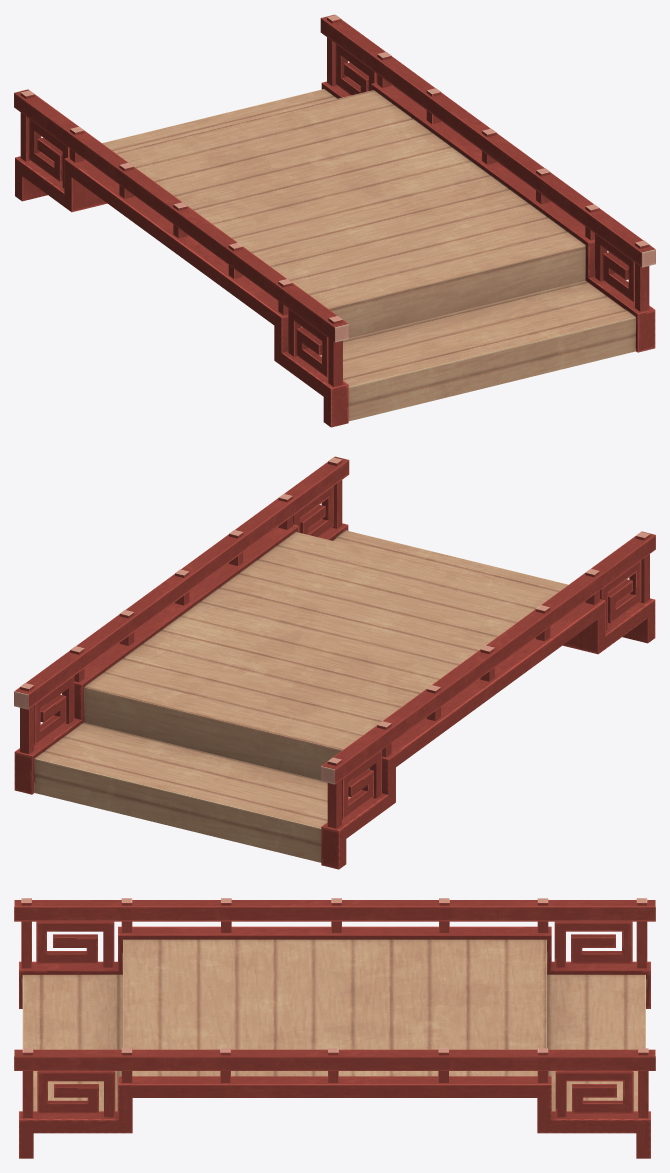
The model's file is Bridge_Wire.fbx.
3 views of the same model, one above another, from view 1: azimuth 30°, elevation 25°; view 2: azimuth 150°, elevation 25°; view 3: azimuth 270°, elevation 25° (orthographic).
Parts seen in each view (by area): view 1: Bridge2; view 2: Bridge2; view 3: Bridge2.
Part boxes in pixels (x1=…): Bridge2: x1=14, y1=14, x2=655, y2=427; Bridge2: x1=14, y1=456, x2=655, y2=869; Bridge2: x1=14, y1=898, x2=655, y2=1158.
Size of the model in its own units: 77.26 by 23.63 by 133.
